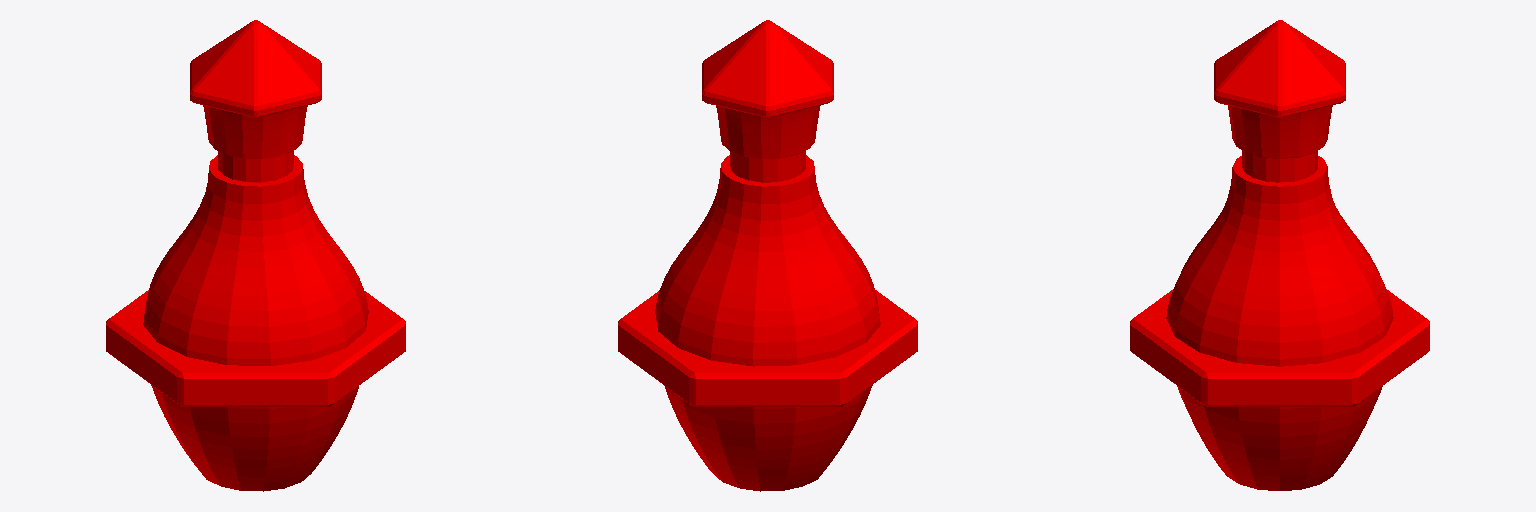
robot.urdf — pin.urdf:
<?xml version="0.0" ?>
<robot name="pin.urdf">
  <link name="baseLink">
    <contact>
      <lateral_friction value="1.0"/>
      <rolling_friction value="0.0"/>
      <contact_cfm value="0.0"/>
      <contact_erp value="1.0"/>
    </contact>
    <inertial>
      <origin rpy="1.57 0 0" xyz="0.0 0.0 -0.17"/>
       <mass value=".1"/>
       <inertia ixx="1" ixy="0" ixz="0" iyy="1" iyz="0" izz="1"/>
    </inertial>
    <visual>
      <origin rpy="1.57 0 0" xyz="0 0 -0.23"/>
      <geometry>
        <mesh filename="pin.obj" scale="1 1 1"/>
      </geometry>
       <material name="yellow">
        <color rgba="1 0 0 1"/>
      </material>
    </visual>
    <collision>
      <origin rpy="1.57 0 0" xyz="0 0 -0.23"/>
      <geometry>
	 	<mesh filename="pinCollision.obj" scale="1 1 1"/>
      </geometry>
    </collision>
  </link>
  <!--specify baxter's configuration for grasping-->
  <baxter finger="extended_narrow" slot="2" tip="basic_soft"/>
</robot>

--- Facts derived from the render (not from the file) ---
Views: 3 orthographic renders of the robot side by side, from view 1: azimuth 30°, elevation 25°; view 2: azimuth 150°, elevation 25°; view 3: azimuth 270°, elevation 25°.
Model pin.urdf with 1 links and 0 joints (none), rooted at baseLink, posed all joints at 0.
Visible links, largest first — view 1: baseLink; view 2: baseLink; view 3: baseLink.
Link boxes in pixels (x1,y1,x2,y2): baseLink: (106, 20, 405, 491); baseLink: (618, 20, 917, 491); baseLink: (1130, 20, 1429, 490).
Size in the robot's own frame: 0.0693 by 0.0788 by 0.1288 metres.
Meshes: 1 distinct files referenced, 1 mesh visuals loaded (1 OBJ).